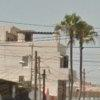Palm tree: (51, 10, 95, 87)
